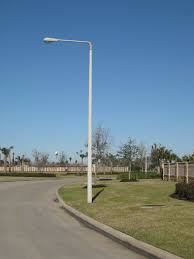light_pole: (82, 38, 98, 205)
